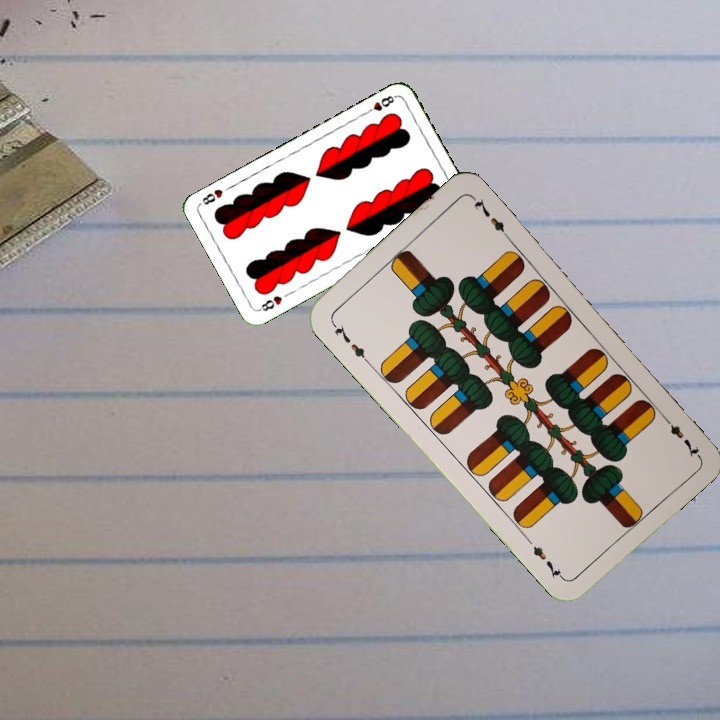E7: (657, 411, 702, 461), (327, 318, 372, 366)
H8: (361, 91, 399, 117), (255, 292, 285, 314)
